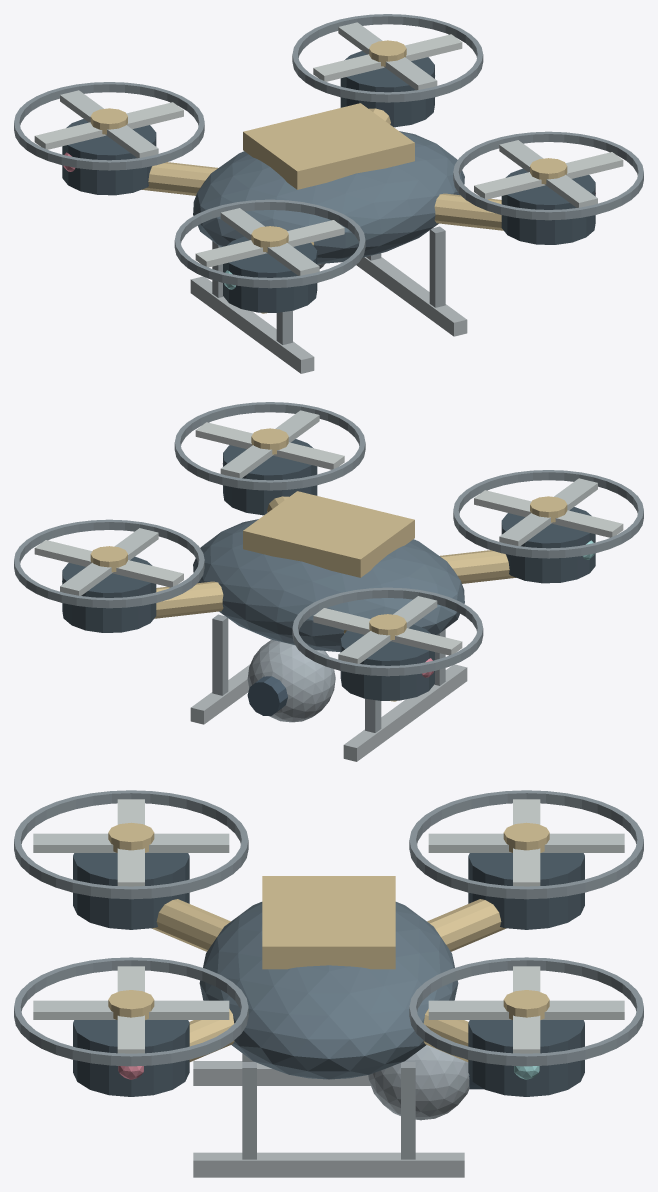
The model's file is inspection.glb.
3 renders of one model, top to bottom at view 1: azimuth 30°, elevation 25°; view 2: azimuth 150°, elevation 25°; view 3: azimuth 270°, elevation 25°, orthographic. The views are drawn at different scales.
Visible parts, largest first — view 1: inspection_body, inspection_topdeck, rotor_guard_3, rotor_guard_1, rotor_guard_0, rotor_guard_2, motor_0, motor_1, motor_2, motor_3, landing_skid_-1, landing_skid_1 (+16 smaller); view 2: inspection_body, inspection_topdeck, rotor_guard_0, rotor_guard_2, rotor_guard_3, rotor_guard_1, gimbal, motor_3, motor_2, motor_1, motor_0, landing_skid_-1 (+18 smaller); view 3: inspection_body, inspection_topdeck, landing_skid_1, rotor_guard_0, rotor_guard_3, rotor_guard_1, rotor_guard_2, motor_0, motor_3, motor_1, motor_2, gimbal (+19 smaller).
Part boxes in pixels (x1=…): inspection_body: x1=193, y1=131, x2=464, y2=264; inspection_topdeck: x1=243, y1=103, x2=414, y2=189; rotor_guard_3: x1=292, y1=14, x2=483, y2=102; rotor_guard_1: x1=174, y1=199, x2=365, y2=288; rotor_guard_0: x1=453, y1=131, x2=643, y2=220; rotor_guard_2: x1=14, y1=82, x2=204, y2=170; motor_0: x1=501, y1=168, x2=595, y2=244; motor_1: x1=223, y1=236, x2=317, y2=312; motor_2: x1=62, y1=119, x2=156, y2=195; motor_3: x1=340, y1=51, x2=434, y2=127; landing_skid_-1: x1=190, y1=276, x2=314, y2=373; landing_skid_1: x1=356, y1=257, x2=467, y2=336; inspection_body: x1=193, y1=519, x2=464, y2=652; inspection_topdeck: x1=243, y1=491, x2=414, y2=577; rotor_guard_0: x1=174, y1=402, x2=365, y2=490; rotor_guard_2: x1=292, y1=587, x2=483, y2=676; rotor_guard_3: x1=14, y1=519, x2=204, y2=608; rotor_guard_1: x1=453, y1=470, x2=643, y2=558; gimbal: x1=247, y1=640, x2=335, y2=722; motor_3: x1=62, y1=556, x2=156, y2=632; motor_2: x1=340, y1=624, x2=434, y2=700; motor_1: x1=501, y1=507, x2=595, y2=583; motor_0: x1=223, y1=439, x2=317, y2=515; landing_skid_-1: x1=343, y1=664, x2=467, y2=761; inspection_body: x1=199, y1=902, x2=458, y2=1079; inspection_topdeck: x1=262, y1=876, x2=395, y2=969; landing_skid_1: x1=193, y1=1152, x2=464, y2=1177; rotor_guard_0: x1=14, y1=957, x2=248, y2=1066; rotor_guard_3: x1=409, y1=957, x2=643, y2=1066; rotor_guard_1: x1=14, y1=790, x2=248, y2=899; rotor_guard_2: x1=409, y1=790, x2=643, y2=899; motor_0: x1=73, y1=1020, x2=189, y2=1096; motor_3: x1=468, y1=1020, x2=584, y2=1096; motor_1: x1=73, y1=853, x2=189, y2=929; motor_2: x1=468, y1=853, x2=584, y2=929; gimbal: x1=368, y1=1045, x2=469, y2=1120.
Size of the model in its own units: 1.24 by 0.4694 by 1.24.
